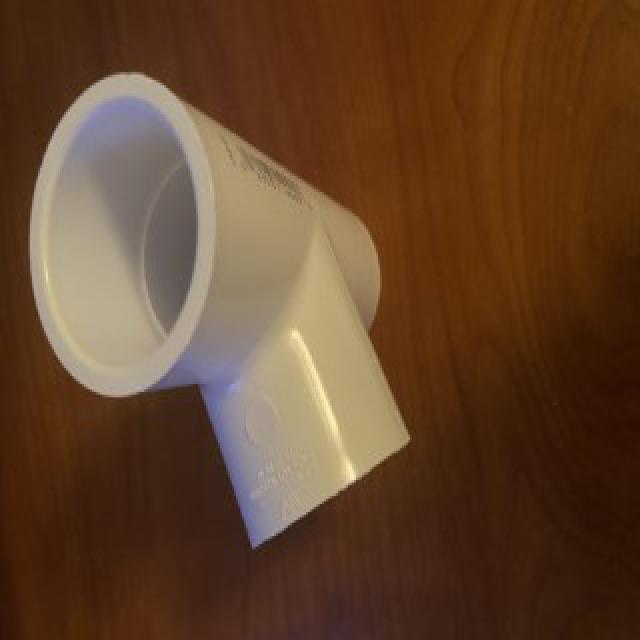T Joint: (28, 72, 411, 550)
